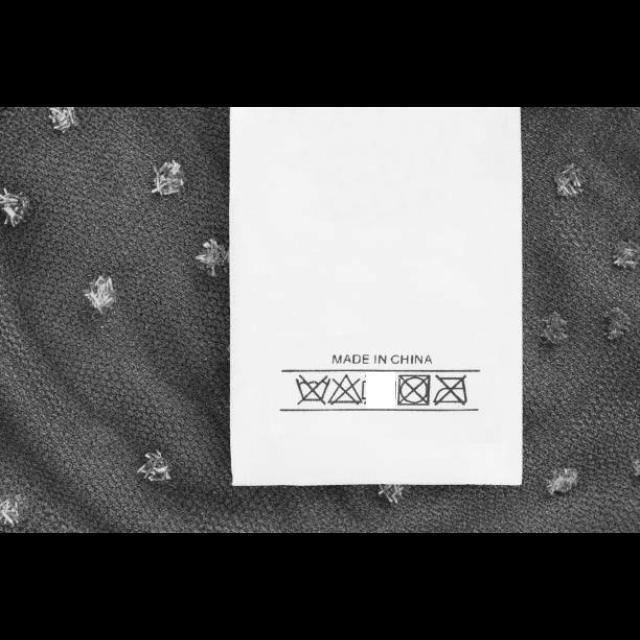DN_bleach: (327, 372, 365, 408)
DN_iron: (432, 373, 472, 409)
DN_tumble_dry: (396, 372, 432, 410)
DN_wash: (292, 372, 332, 406)
